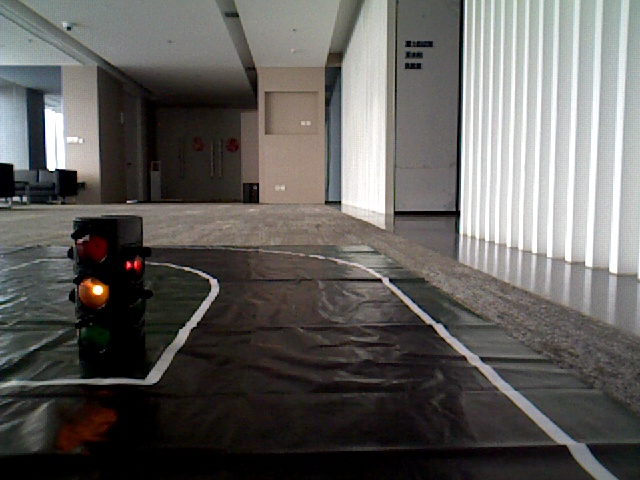yellow: (74, 220, 126, 363)
